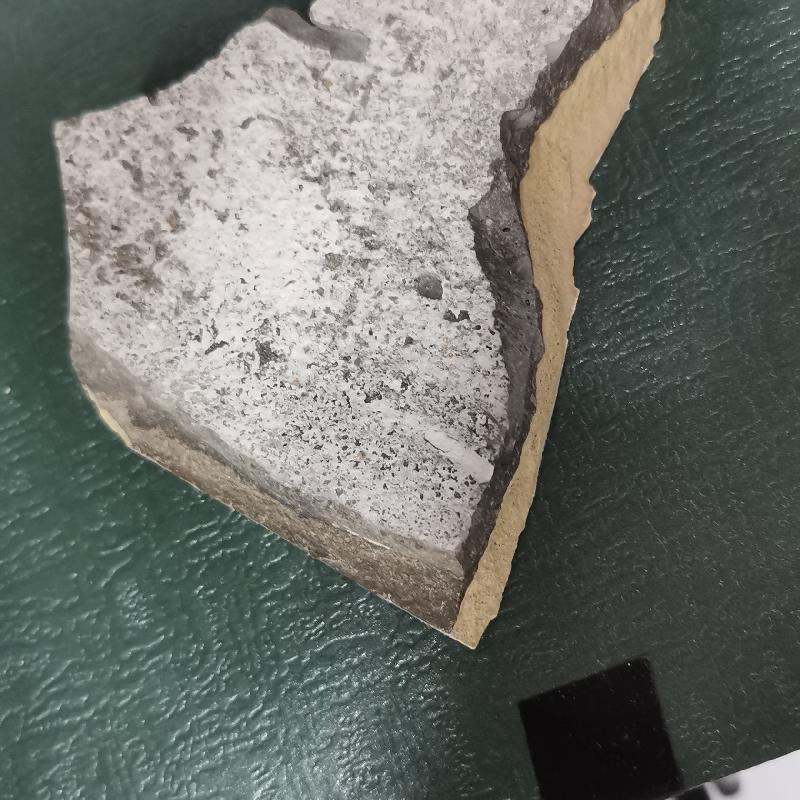tile: (37, 4, 687, 651)
